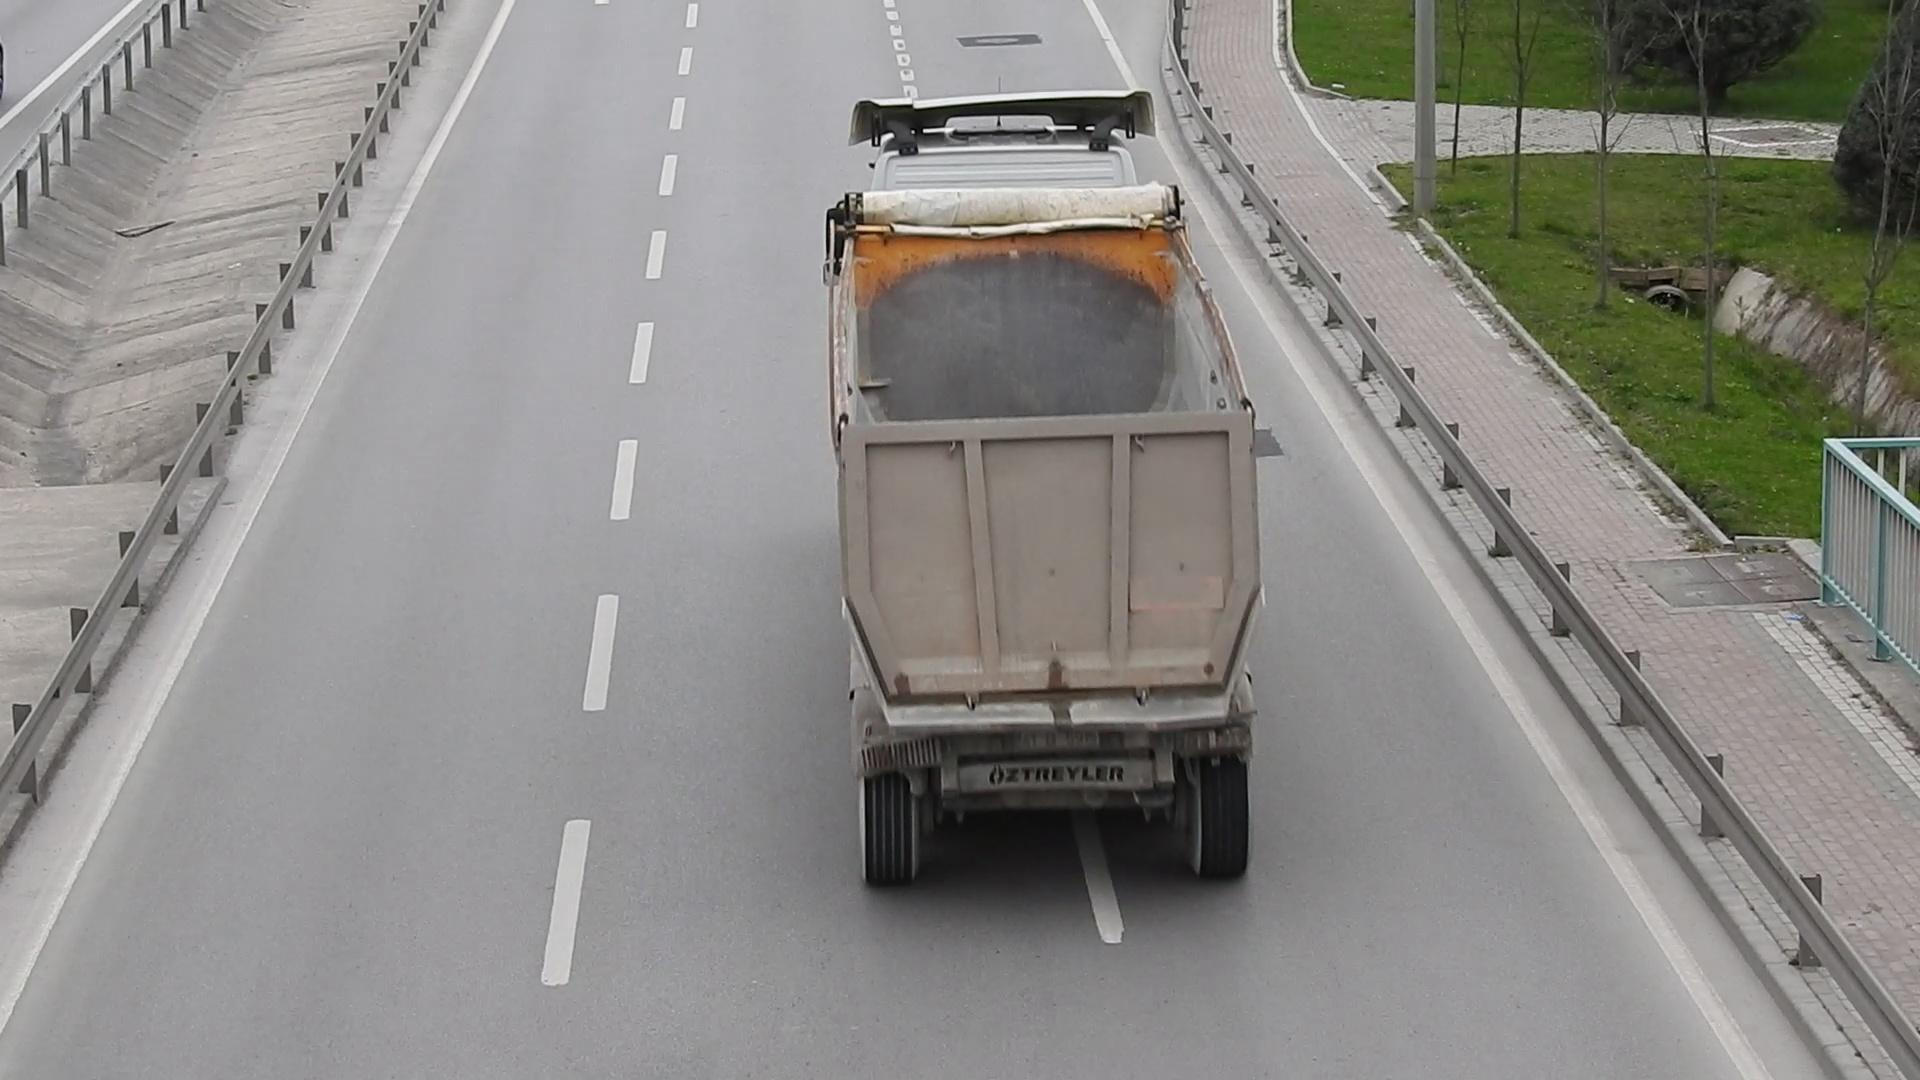Lorry: (812, 70, 1288, 923)
